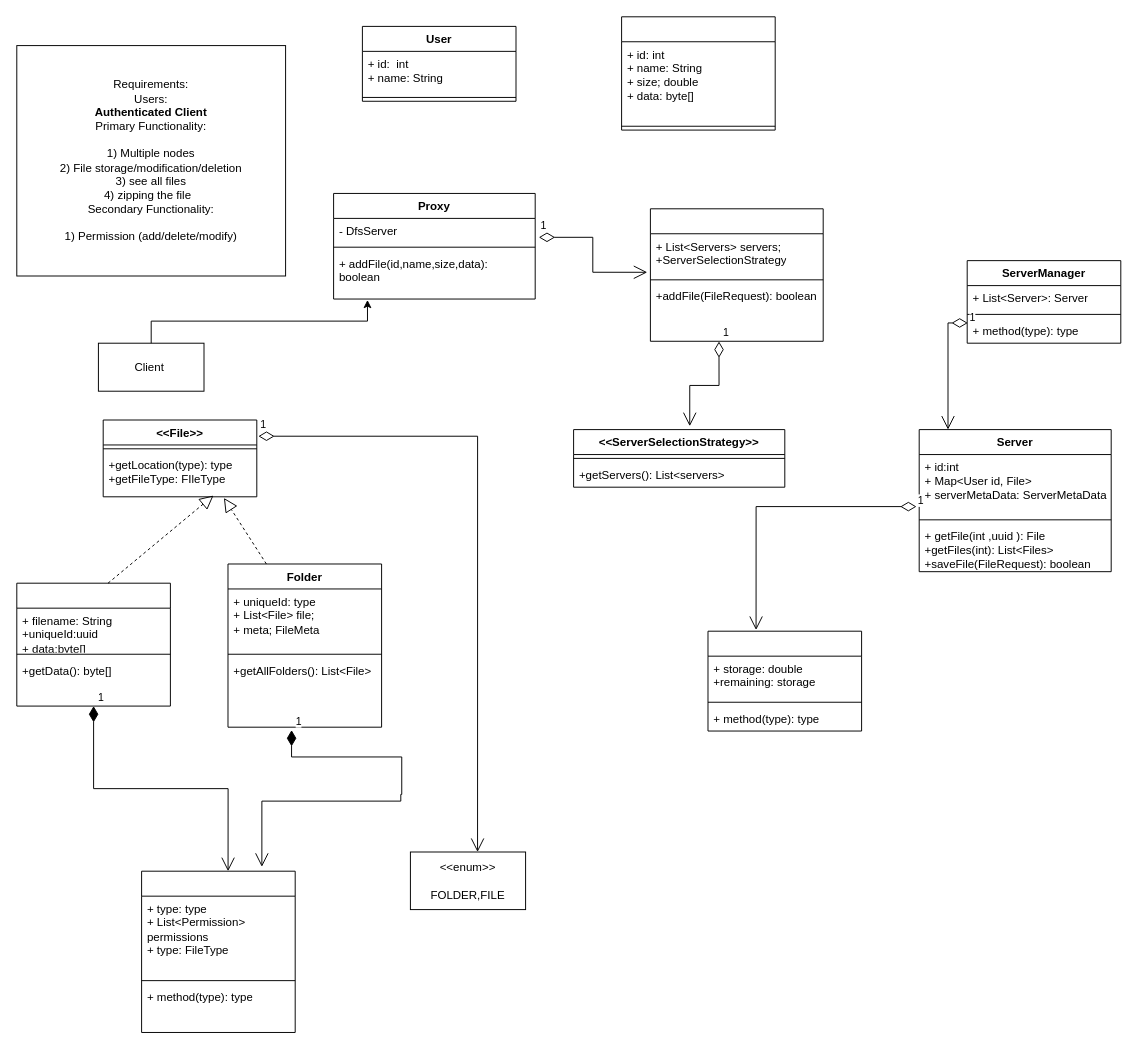
The diagram is 1138 pixels wide and 1052 high, and some of its shapes have lost their labels. Each missing label, with the box of its shape:
BaseFile: (16, 582, 170, 706)
DfsServer: (649, 208, 823, 341)
File Metadata: (141, 870, 295, 1032)
FileRequest: (621, 16, 775, 130)
ServerMetaData: (707, 630, 862, 731)
